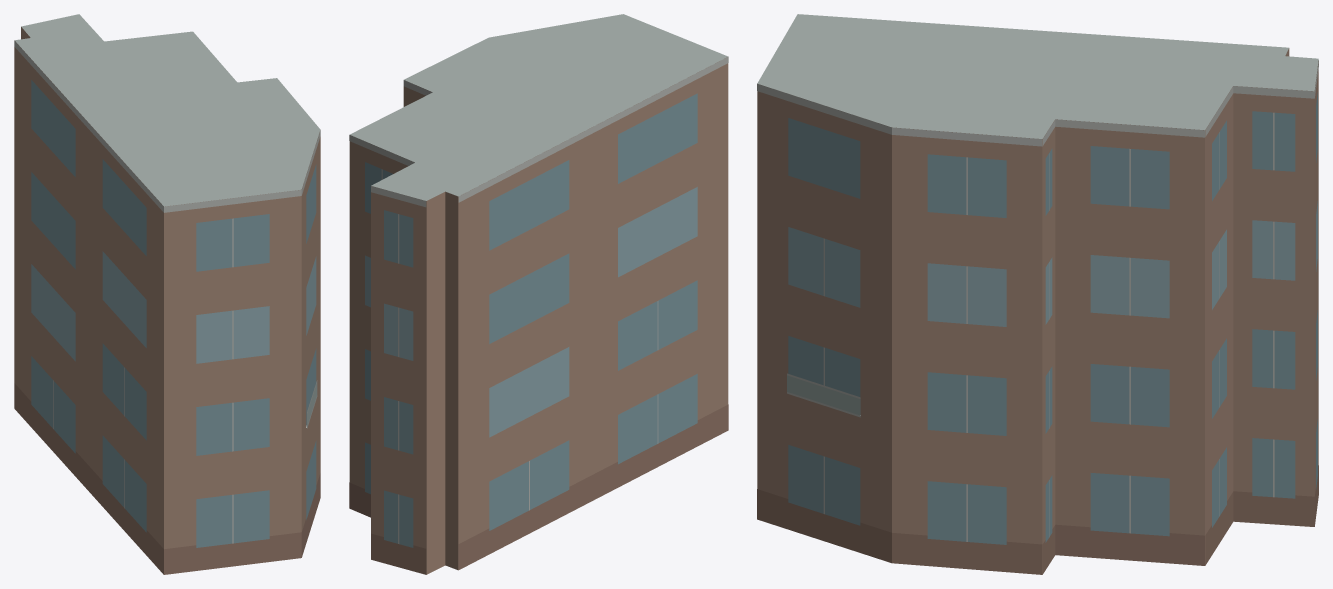
File: survey-upis-32497878.glb
3 views of the same model, side by side, from view 1: azimuth 30°, elevation 25°; view 2: azimuth 150°, elevation 25°; view 3: azimuth 270°, elevation 25° (orthographic). The views are drawn at different scales.
Visible parts, largest first — view 1: survey-upis-32497878.tmp; view 2: survey-upis-32497878.tmp; view 3: survey-upis-32497878.tmp.
Boxes of the visible parts, <box> form: survey-upis-32497878.tmp: <box>14,14,320,574</box>; survey-upis-32497878.tmp: <box>349,14,728,574</box>; survey-upis-32497878.tmp: <box>757,14,1318,574</box>.
Bounding box in the file's own units: 8.76 × 14.22 × 16.62.
